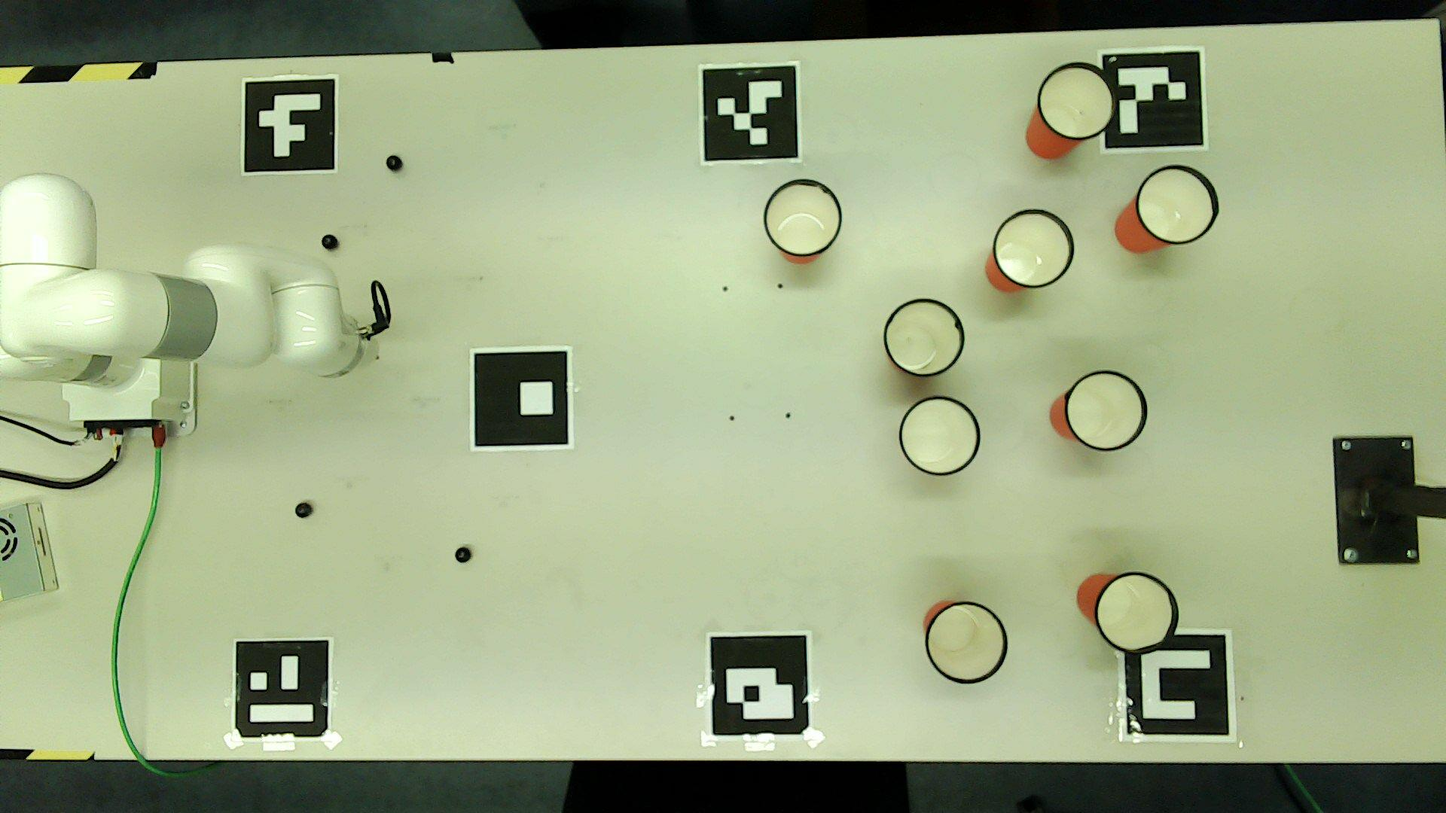ball: (387, 156, 402, 170), (296, 504, 310, 517), (457, 549, 470, 562), (323, 236, 336, 248)
cup: (1097, 573, 1175, 652), (901, 398, 979, 475), (1138, 166, 1216, 243), (927, 603, 1003, 681), (1068, 371, 1144, 449), (886, 300, 961, 374), (997, 212, 1071, 286), (766, 181, 841, 254), (1039, 65, 1113, 137)
